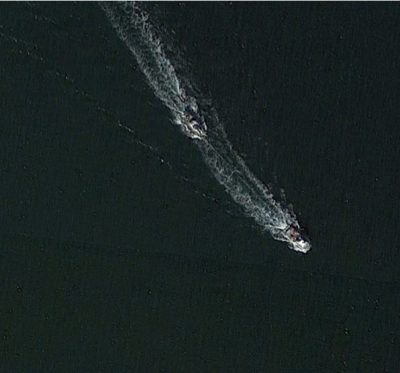boat: (282, 223, 312, 253), (181, 110, 208, 141)
